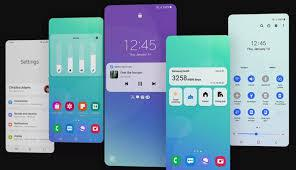Smartphone: (104, 1, 169, 170), (161, 31, 228, 170), (228, 14, 291, 147), (49, 16, 102, 141), (6, 39, 53, 155)
